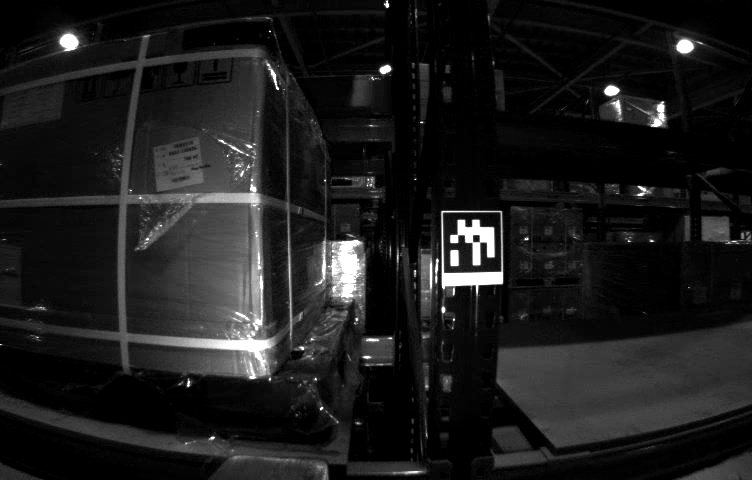True Barcode: (153, 133, 207, 192)
